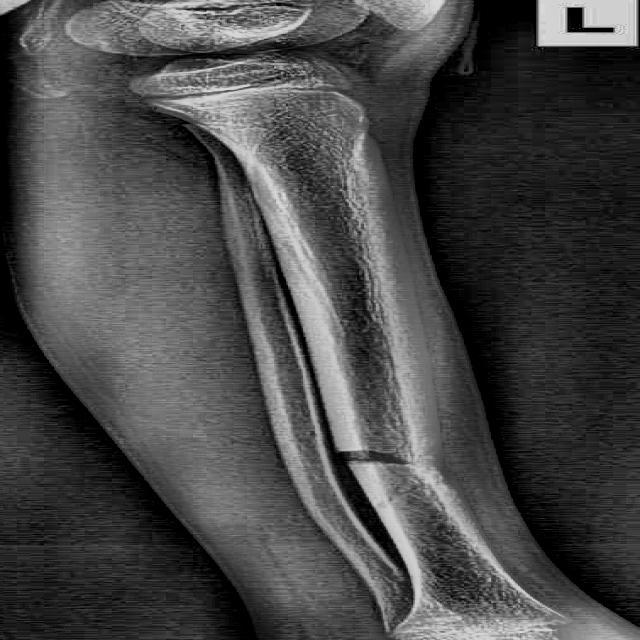fracture: (366, 473, 459, 518), (340, 446, 420, 468)
